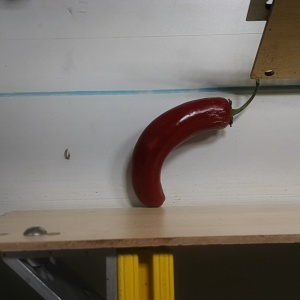Cut Point: (215, 96, 241, 129)
